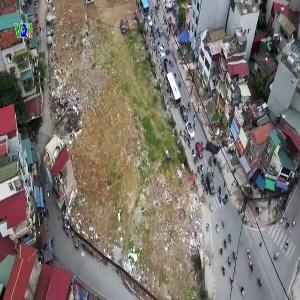drone: (190, 121, 238, 169)
